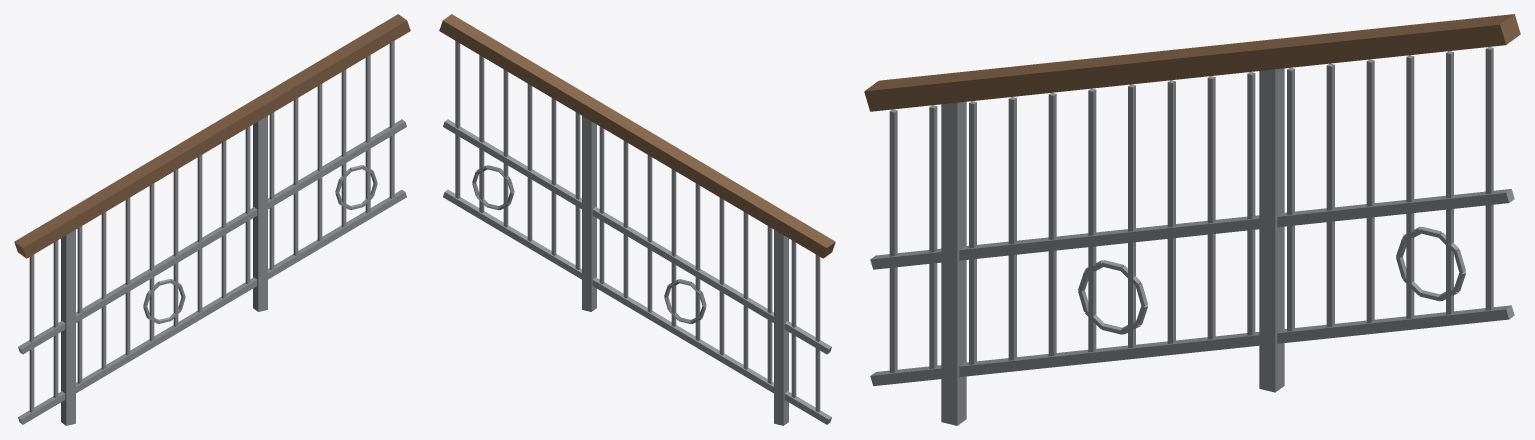
The model's file is HJ_BarandillaEscalera.fbx.
3 renders of one model, left to right at view 1: azimuth 30°, elevation 25°; view 2: azimuth 150°, elevation 25°; view 3: azimuth 330°, elevation 25°, orthographic. The views are drawn at different scales.
Parts seen in each view (by area): view 1: HJ_BarandillaEscalera; view 2: HJ_BarandillaEscalera; view 3: HJ_BarandillaEscalera.
Part boxes in pixels (box(x1,y1,x2,y2)): HJ_BarandillaEscalera: box(14, 14, 410, 425); HJ_BarandillaEscalera: box(439, 14, 835, 425); HJ_BarandillaEscalera: box(864, 14, 1520, 425).
Size of the model in its own units: 2.02 by 1.61 by 0.08.
